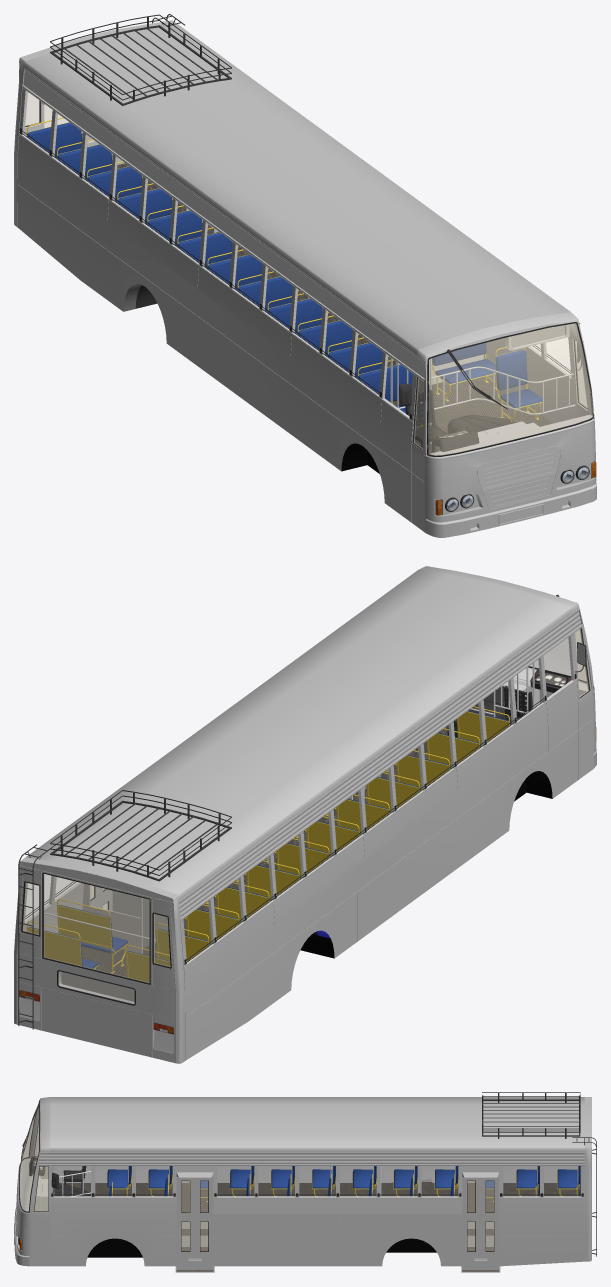
Rendered from Body.fbx.
The picture shows the model from 3 angles, top to bottom: view 1: azimuth 30°, elevation 25°; view 2: azimuth 150°, elevation 25°; view 3: azimuth 270°, elevation 25°; orthographic projection. The views are drawn at different scales.
Parts seen in each view (by area): view 1: Roof, Side, Front Glass, Front Frame, Left side seats.004, Front Frame.001, Side Inside, Carrier, Floor and Step, Body beedings.002, Bumber, Front Inside (+11 smaller); view 2: Roof, Side, Back, Left side seats.004, Back main Glass, Front Frame.001, Body beedings.002, Side Inside, Carrier, Left side seats.002, Front Frame, Step side (+9 smaller); view 3: Side, Roof, Front Frame.001, Floor and Step, Left side seats.004, Side Inside, Front Frame, Body beedings.002, Carrier, Mungurad, Door part 2, Door part 1.001 (+17 smaller).
Boxes of the visible parts, x1,y1,x2,y2 form: Roof: (24, 24, 570, 354); Side: (17, 85, 416, 521); Front Glass: (428, 323, 593, 455); Front Frame: (411, 312, 596, 532); Left side seats.004: (26, 117, 423, 427); Front Frame.001: (21, 68, 583, 381); Side Inside: (22, 90, 575, 423); Carrier: (50, 14, 231, 105); Floor and Step: (117, 163, 553, 453); Body beedings.002: (16, 20, 594, 531); Bumber: (426, 482, 596, 537); Front Inside: (412, 323, 592, 455); Roof: (26, 569, 571, 900); Side: (180, 630, 578, 1059); Back: (14, 857, 184, 1063); Left side seats.004: (125, 706, 510, 982); Back main Glass: (44, 874, 149, 982); Front Frame.001: (179, 608, 583, 920); Body beedings.002: (16, 678, 594, 1063); Side Inside: (23, 636, 574, 963); Carrier: (50, 790, 231, 881); Left side seats.002: (26, 899, 128, 973); Front Frame: (419, 566, 596, 778); Step side: (82, 776, 378, 953); Side: (50, 1164, 584, 1266); Roof: (50, 1097, 584, 1151); Front Frame.001: (38, 1152, 584, 1165); Floor and Step: (59, 1182, 579, 1271); Left side seats.004: (107, 1166, 580, 1201); Side Inside: (54, 1166, 580, 1197); Front Frame: (16, 1097, 50, 1266); Body beedings.002: (18, 1097, 591, 1266); Carrier: (482, 1092, 580, 1138); Mungurad: (87, 1238, 436, 1257); Door part 2: (176, 1177, 194, 1270); Door part 1.001: (480, 1177, 498, 1270).
Size of the model in its own units: 3.2 by 12.83 by 3.31.
